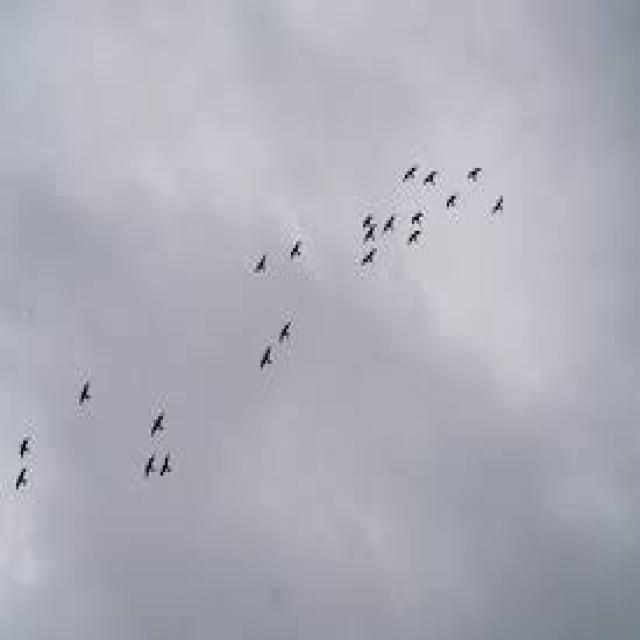bird: (9, 412, 42, 466), (120, 456, 164, 494), (392, 152, 427, 198), (5, 463, 40, 509), (146, 402, 182, 444), (161, 446, 186, 506), (254, 331, 280, 386), (235, 241, 270, 280), (282, 222, 308, 271), (71, 378, 104, 412), (440, 187, 466, 226), (276, 314, 304, 350), (422, 148, 440, 202), (461, 154, 486, 192), (490, 185, 511, 228), (378, 204, 399, 237), (357, 250, 383, 275), (360, 212, 378, 246), (407, 227, 424, 259), (404, 208, 432, 226)
